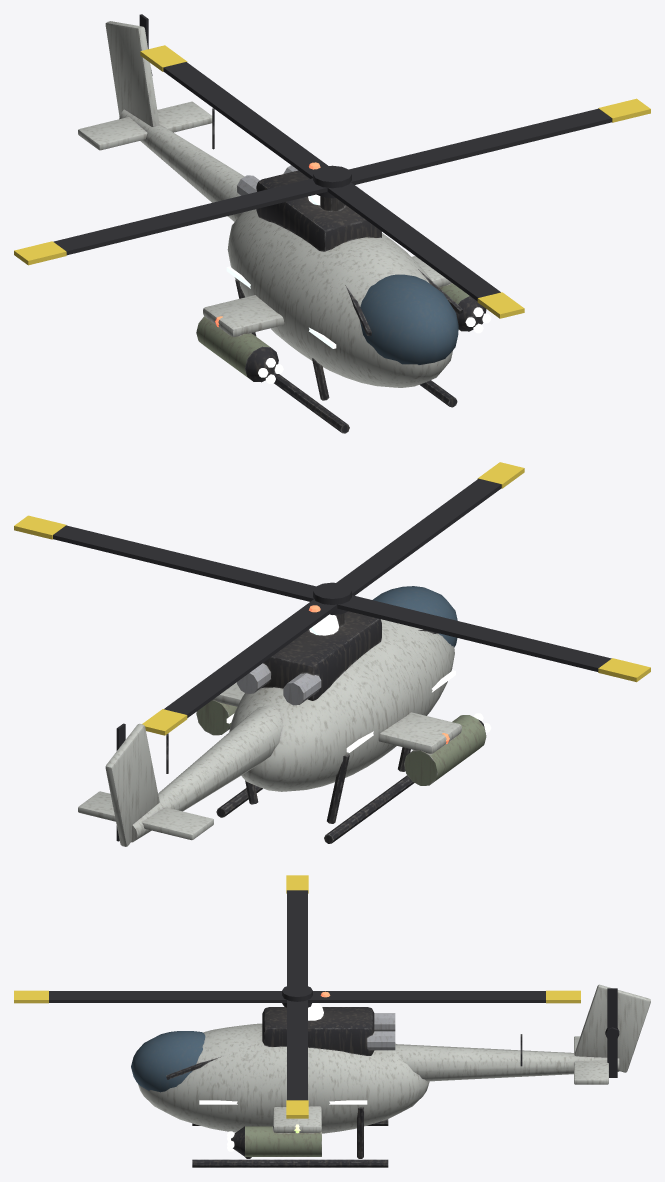
The model's file is west_heli.glb.
The picture shows the model from 3 angles, top to bottom: view 1: azimuth 30°, elevation 25°; view 2: azimuth 150°, elevation 25°; view 3: azimuth 270°, elevation 25°; orthographic projection. The views are drawn at different scales.
Visible parts, largest first — view 1: Hull, Rotor; view 2: Hull, Rotor; view 3: Hull, Rotor, TailRotor.
Part boxes in pixels (<box>): Hull: <box>78,21,491,433</box>; Rotor: <box>14,45,650,318</box>; Hull: <box>78,586,491,846</box>; Rotor: <box>14,462,650,735</box>; Hull: <box>131,984,650,1167</box>; Rotor: <box>14,875,580,1118</box>; TailRotor: <box>605,988,619,1077</box>.
Bounding box in the file's own units: 8.1 × 2.56 × 9.1.
10 materials, 8 textured.
